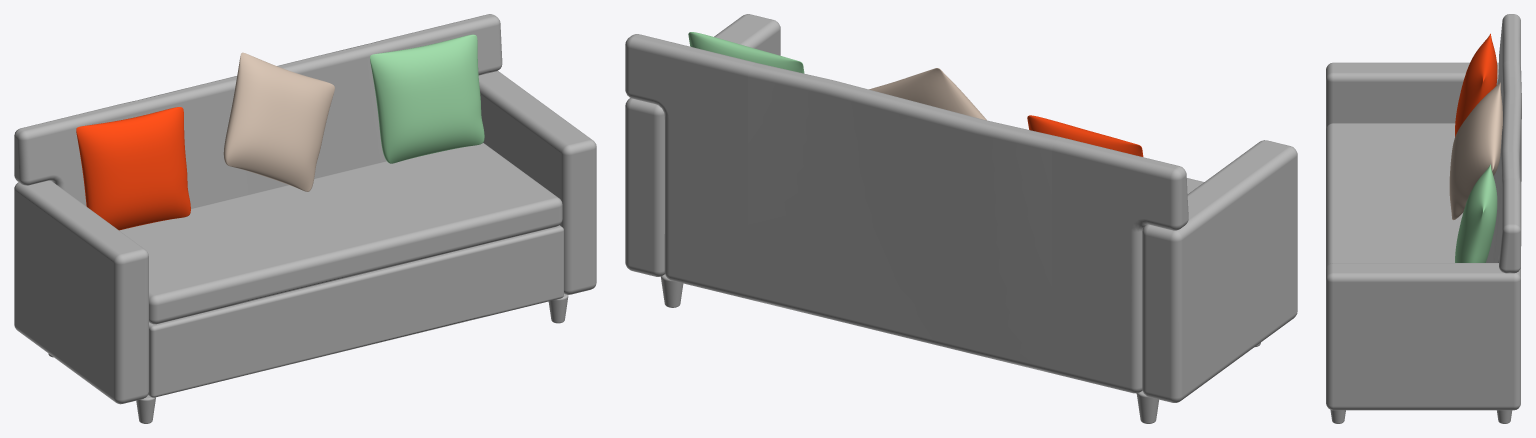
The model's file is ThreeSofa.FBX.
3 renders of one model, left to right at view 1: azimuth 30°, elevation 25°; view 2: azimuth 150°, elevation 25°; view 3: azimuth 270°, elevation 25°, orthographic. The views are drawn at different scales.
Visible parts, largest first — view 1: object_5, object_4, object_7, object_8, object_6, object_2, object_3, object_1; view 2: object_7, object_8, object_6, object_1, object_2, object_3; view 3: object_6, object_5, object_8, object_7, object_1, object_2, object_3.
Boxes of the visible parts, x1,y1,x2,y2 form: object_5: (119, 143, 562, 324); object_4: (148, 225, 563, 397); object_7: (14, 14, 502, 208); object_8: (14, 180, 148, 404); object_6: (478, 70, 596, 294); object_2: (370, 34, 484, 163); object_3: (76, 107, 190, 230); object_1: (223, 52, 334, 191); object_7: (625, 34, 1188, 393); object_8: (1142, 140, 1297, 402); object_6: (625, 14, 780, 276); object_1: (869, 68, 986, 120); object_2: (688, 32, 804, 73); object_3: (1027, 115, 1143, 156); object_6: (1326, 263, 1520, 410); object_5: (1326, 123, 1462, 268); object_8: (1326, 62, 1498, 129); object_7: (1486, 14, 1521, 273); object_1: (1449, 82, 1502, 220); object_2: (1455, 164, 1497, 262); object_3: (1455, 33, 1497, 136).
Bounding box in the file's own units: 70.61 × 36.31 × 27.12.
